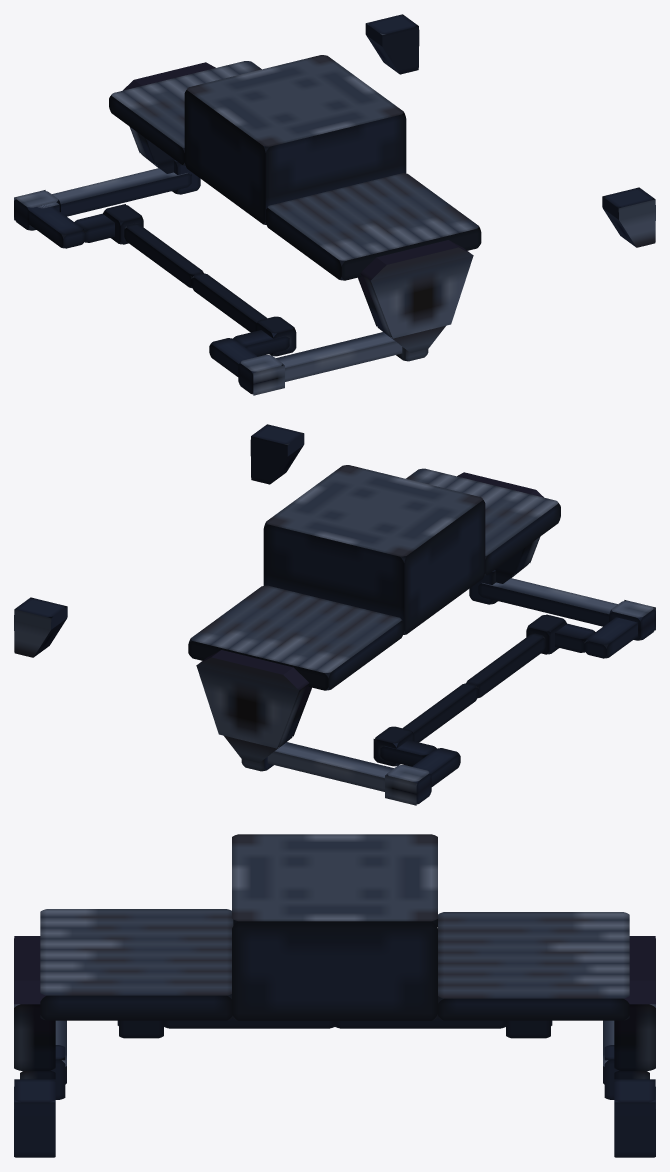
Rendered from df11g_bogey_top_hinge.obj.
3 renders of one model, top to bottom at view 1: azimuth 30°, elevation 25°; view 2: azimuth 150°, elevation 25°; view 3: azimuth 270°, elevation 25°, orthographic. The views are drawn at different scales.
Visible parts, largest first — view 1: primary_spring_selection_selection_selection; view 2: primary_spring_selection_selection_selection; view 3: primary_spring_selection_selection_selection.
Part boxes in pixels (bbox=[...]): primary_spring_selection_selection_selection: bbox=[14, 14, 655, 395]; primary_spring_selection_selection_selection: bbox=[14, 424, 655, 805]; primary_spring_selection_selection_selection: bbox=[14, 834, 655, 1157].
Bounding box in the file's own units: 2.81 × 1.15 × 3.12.
